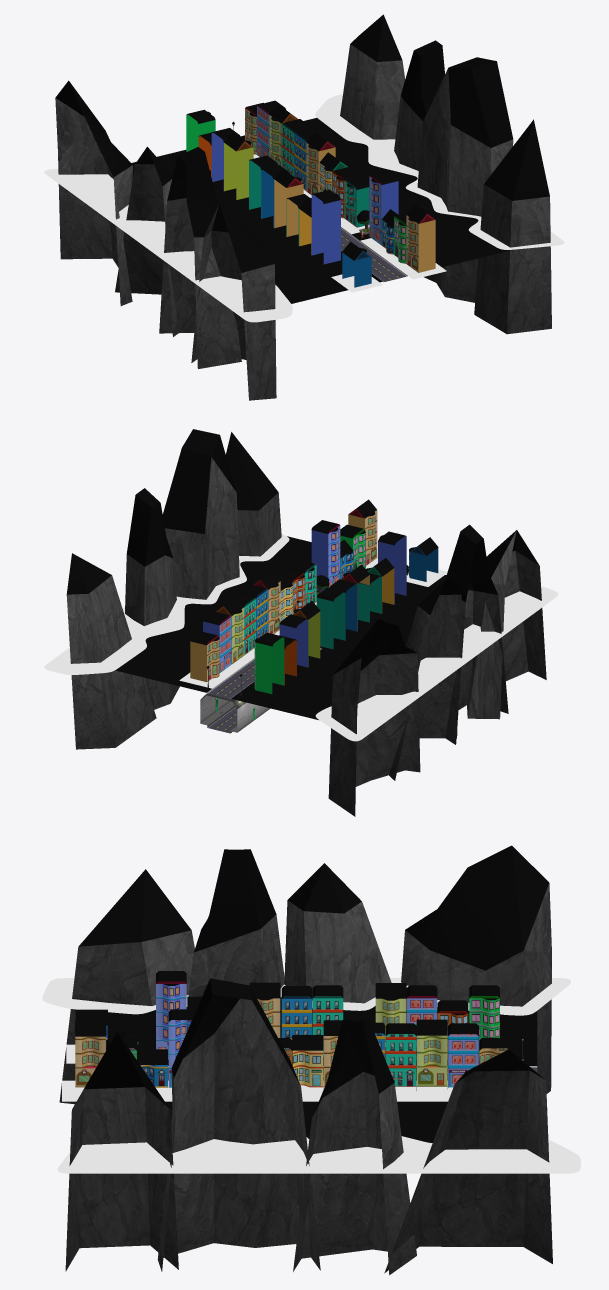
Rendered from citywinter_14.fbx.
The picture shows the model from 3 angles, top to bottom: view 1: azimuth 30°, elevation 25°; view 2: azimuth 150°, elevation 25°; view 3: azimuth 270°, elevation 25°; orthographic projection. The views are drawn at different scales.
Visible parts, largest first — view 1: City_14; view 2: City_14; view 3: City_14.
Part boxes in pixels (<box>): City_14: <box>44,14,564,400</box>; City_14: <box>44,429,558,816</box>; City_14: <box>42,845,580,1275</box>.
Size of the model in its own units: 22617 by 13384 by 25170.
